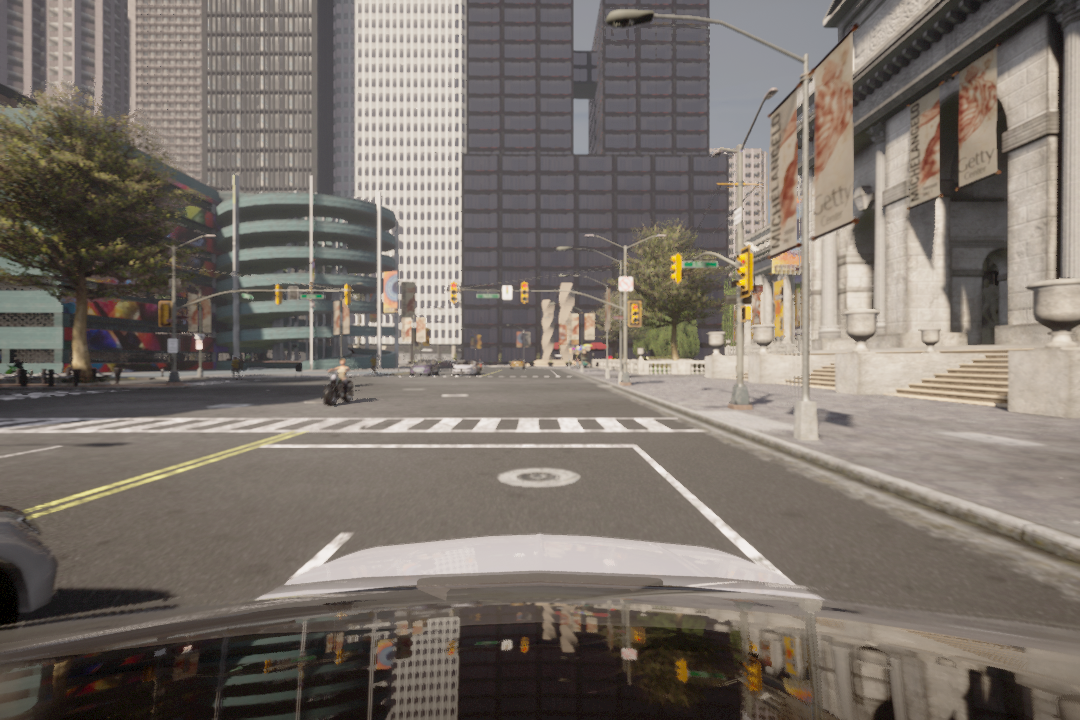TrafficLight: (736, 249, 753, 294), (667, 253, 683, 283), (447, 281, 460, 305), (630, 301, 642, 325), (519, 281, 529, 304)
walkside: (6, 415, 714, 440)
